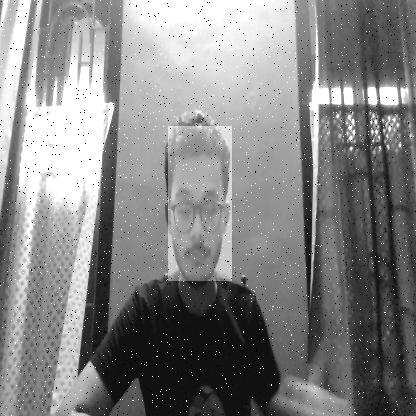Normal: (168, 126, 232, 281)
